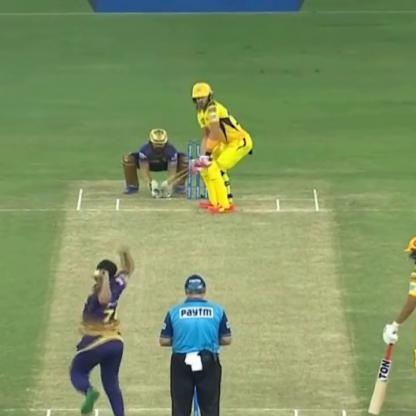ball: (86, 262, 108, 282)
pitch: (25, 178, 378, 416)
